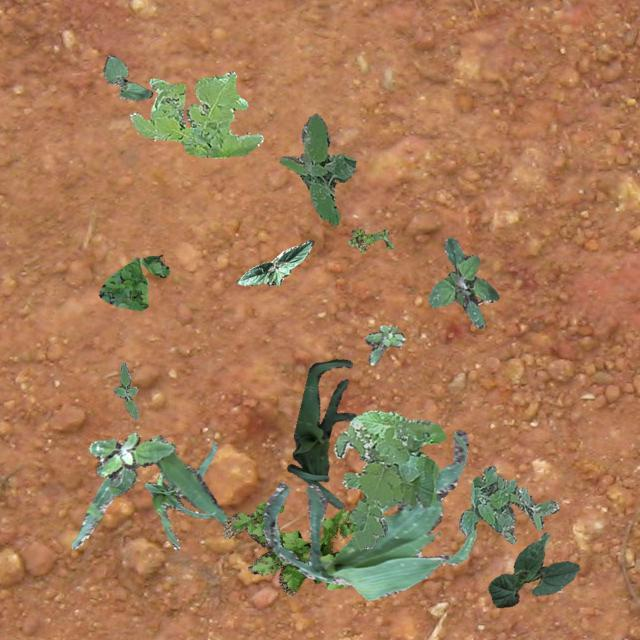crop: (262, 428, 476, 598), (70, 433, 226, 548), (286, 358, 356, 508), (144, 440, 216, 550), (488, 532, 578, 606), (235, 238, 312, 284), (102, 54, 152, 100)
weed: (332, 410, 444, 550), (222, 500, 356, 594), (128, 70, 262, 158), (278, 113, 354, 225), (458, 464, 558, 542), (428, 236, 498, 328), (88, 432, 174, 494), (98, 253, 168, 310), (364, 324, 404, 364), (112, 362, 136, 418), (347, 228, 392, 252)
